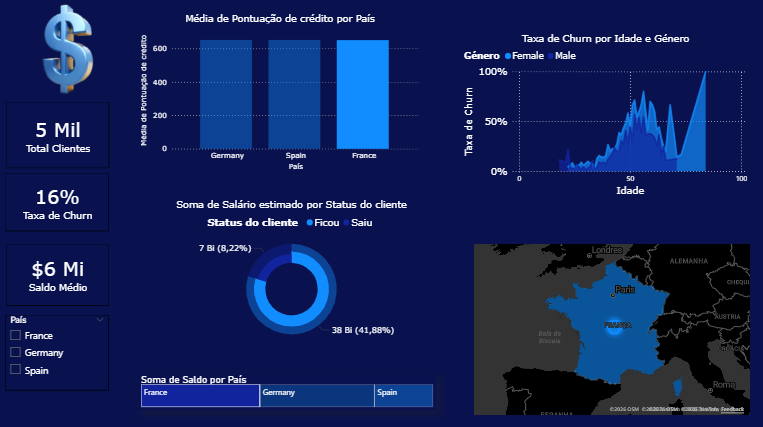

The dashboard page shown, as its layout file describes it:
{"tool":"powerbi","page":{"name":"Página 1","canvas":[1280,720],"ordinal":0},"visuals":[{"type":"azureMap","fields":{"Category":["Bank Customer Churn Prediction.País"]},"box":[793.5,410,459.9,285.1],"z":0},{"type":"cardVisual","fields":{"Data":["_Medidas.Taxa de Churn"]},"box":[11.8,292.4,173.4,97],"z":1000},{"type":"cardVisual","fields":{"Data":["_Medidas.Saldo Médio"]},"box":[13.2,410,171.9,102.9],"z":2000},{"type":"cardVisual","fields":{"Data":["_Medidas.Total Clientes"]},"box":[13.2,173.4,171.9,110.2],"z":3000},{"type":"lineChart","fields":{"Category":["Bank Customer Churn Prediction.Idade"],"Series":["Bank Customer Churn Prediction.Género"],"Y":["_Medidas.Taxa de Churn"]},"box":[771.4,55.8,482,277.7],"z":4000},{"type":"lineStackedColumnComboChart","fields":{"Y":["Avg(Bank Customer Churn Prediction.Pontuação de crédito)"],"Category":["Bank Customer Churn Prediction.País"]},"box":[233.6,23.5,473.1,268.9],"z":5000},{"type":"donutChart","fields":{"Y":["Sum(Bank Customer Churn Prediction.Salário estimado)"],"Category":["Bank Customer Churn Prediction.Status do cliente "]},"box":[185.1,333.6,608.3,252.7],"z":6000},{"type":"slicer","fields":{"Values":["Bank Customer Churn Prediction.País"]},"box":[11.8,529,173.4,126.4],"z":7000},{"type":"image","box":[0,0,233.6,173.4],"z":8000},{"type":"treemap","fields":{"Values":["Sum(Bank Customer Churn Prediction.Saldo)"],"Group":["Bank Customer Churn Prediction.País"]},"box":[233.6,624.5,496.7,61.7],"z":8001}]}

Visuals, with their boxes in screenshot pixels (x1, y1, x2, y2), scaled from the page's 1280x720 canvas onto the 763x427 screenshot:
azureMap - Bank Customer Churn Prediction.País: bbox=[473, 243, 747, 412]
cardVisual - _Medidas.Taxa de Churn: bbox=[7, 173, 110, 231]
cardVisual - _Medidas.Saldo Médio: bbox=[8, 243, 110, 304]
cardVisual - _Medidas.Total Clientes: bbox=[8, 103, 110, 168]
lineChart - Bank Customer Churn Prediction.Idade x Bank Customer Churn Prediction.Género: bbox=[460, 33, 747, 198]
lineStackedColumnComboChart - Avg(Bank Customer Churn Prediction.Pontuação de crédito) x Bank Customer Churn Prediction.País: bbox=[139, 14, 421, 173]
donutChart - Sum(Bank Customer Churn Prediction.Salário estimado) x Bank Customer Churn Prediction.Status do cliente : bbox=[110, 198, 473, 348]
slicer - Bank Customer Churn Prediction.País: bbox=[7, 314, 110, 389]
image: bbox=[0, 0, 139, 103]
treemap - Sum(Bank Customer Churn Prediction.Saldo) x Bank Customer Churn Prediction.País: bbox=[139, 370, 435, 407]
